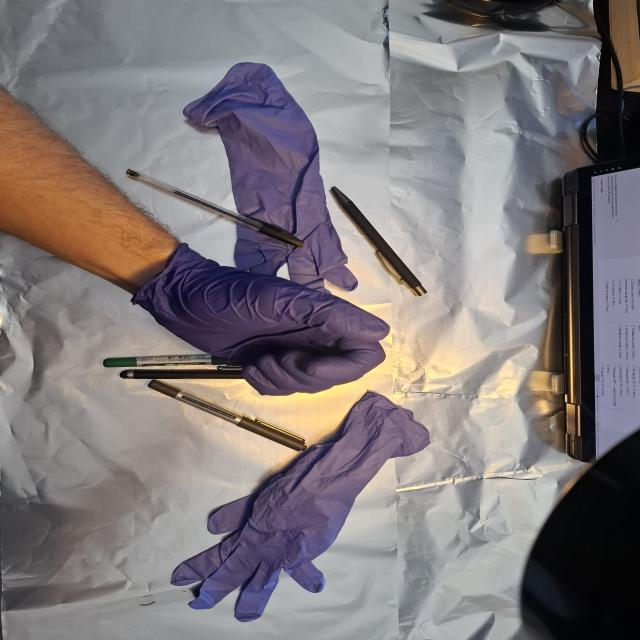glove_on: (133, 248, 394, 398)
